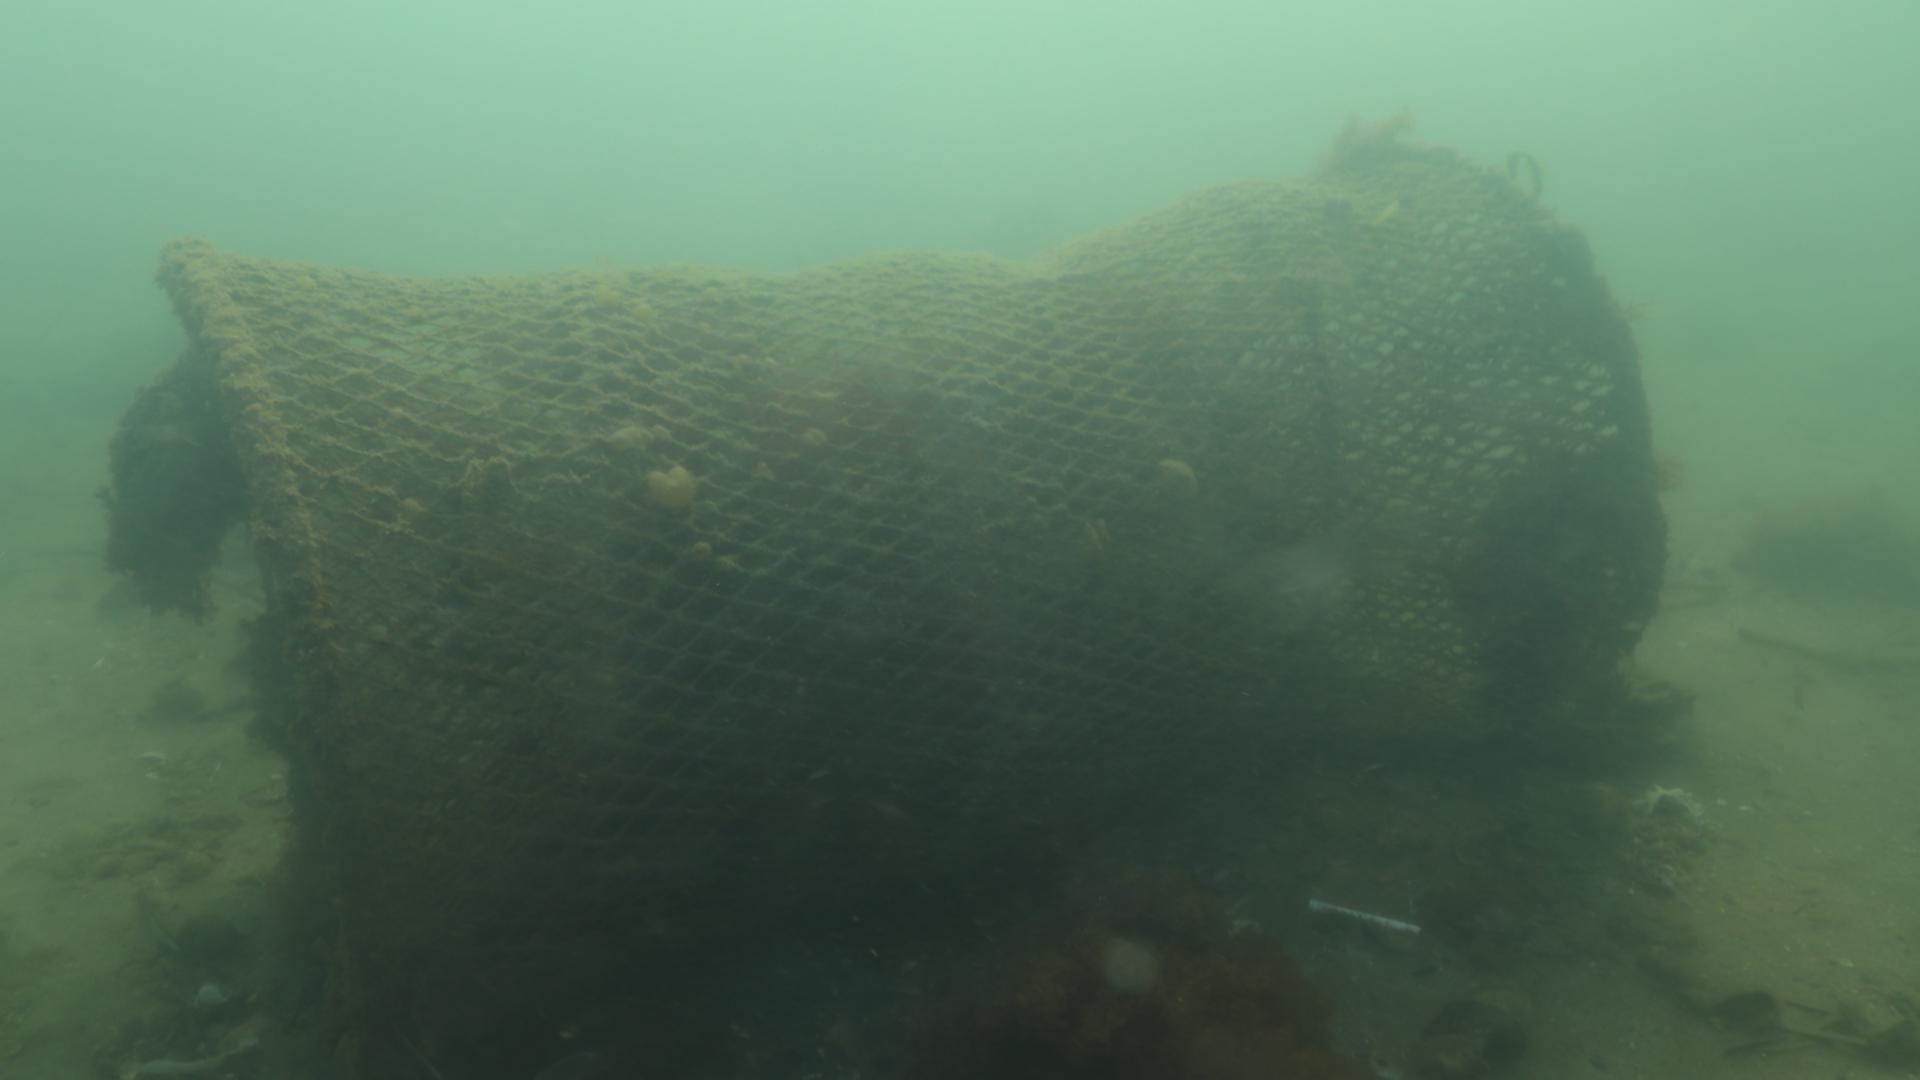spring fish trap: (149, 127, 1659, 1080)
